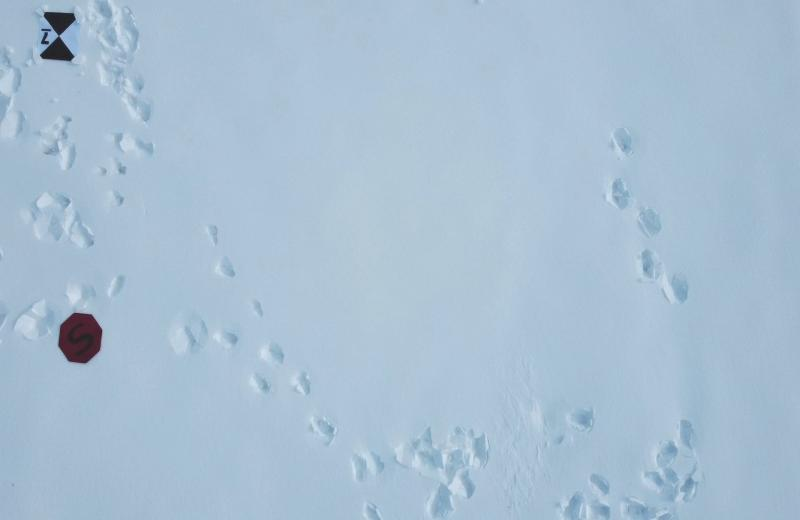Octagon: (57, 312, 103, 366)
